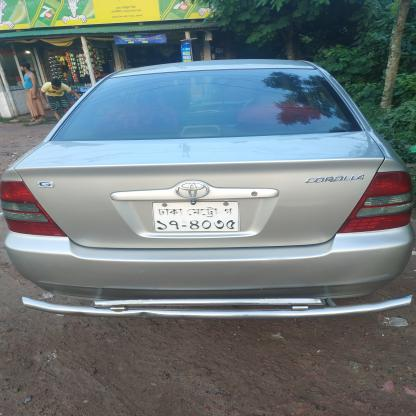license_plate: (148, 200, 247, 232)
